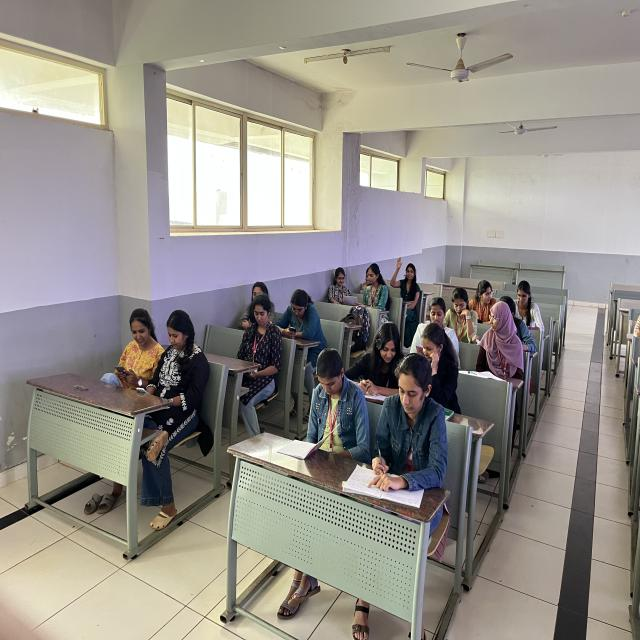Hand Rising: (393, 251, 429, 316)
Reading: (349, 318, 405, 398), (442, 285, 488, 334), (353, 256, 390, 315), (328, 265, 361, 309)
Using Phone: (138, 307, 208, 442), (305, 347, 370, 458), (105, 298, 161, 398), (277, 282, 334, 364), (242, 296, 280, 413)
Writing: (353, 352, 445, 510)
